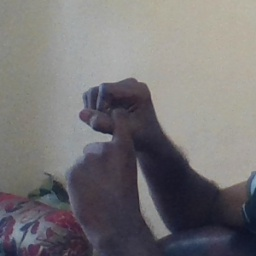Q: (61, 75, 164, 204)
